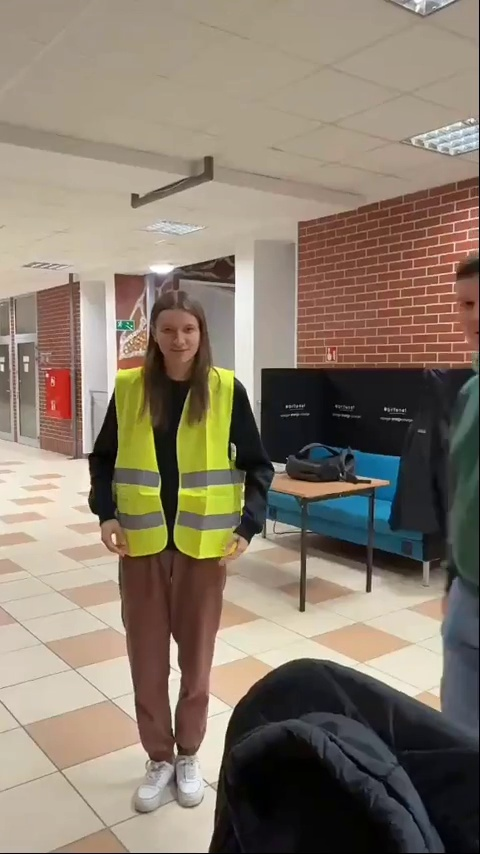no vest: (420, 250, 480, 759)
vest: (97, 293, 269, 815)
